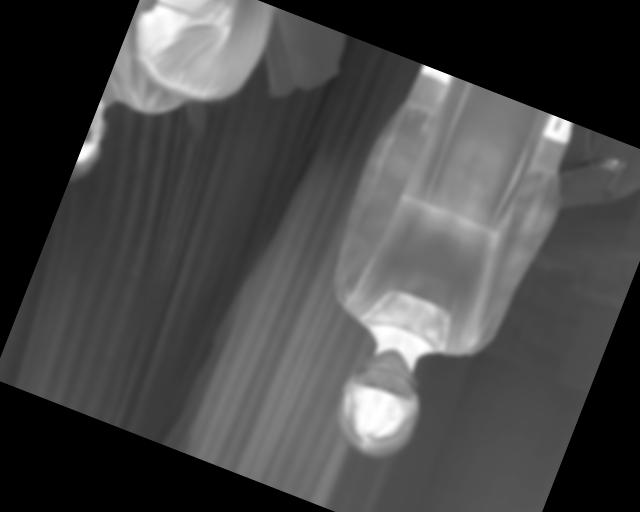face: (321, 334, 442, 470)
